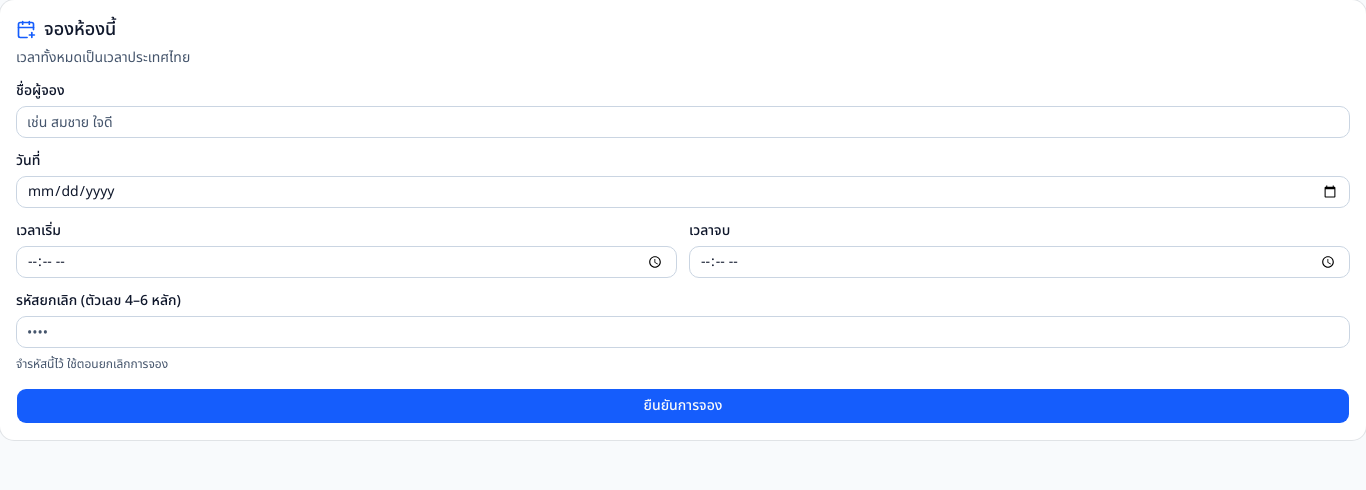
Test case: BookingForm › shows API validation errors under the matching input
The image size is (1366, 490).
In the field labelled "ชื่อผู้จอง": (683, 122) top-left (16, 106), bottom-right (1350, 138), type "สมชาย"
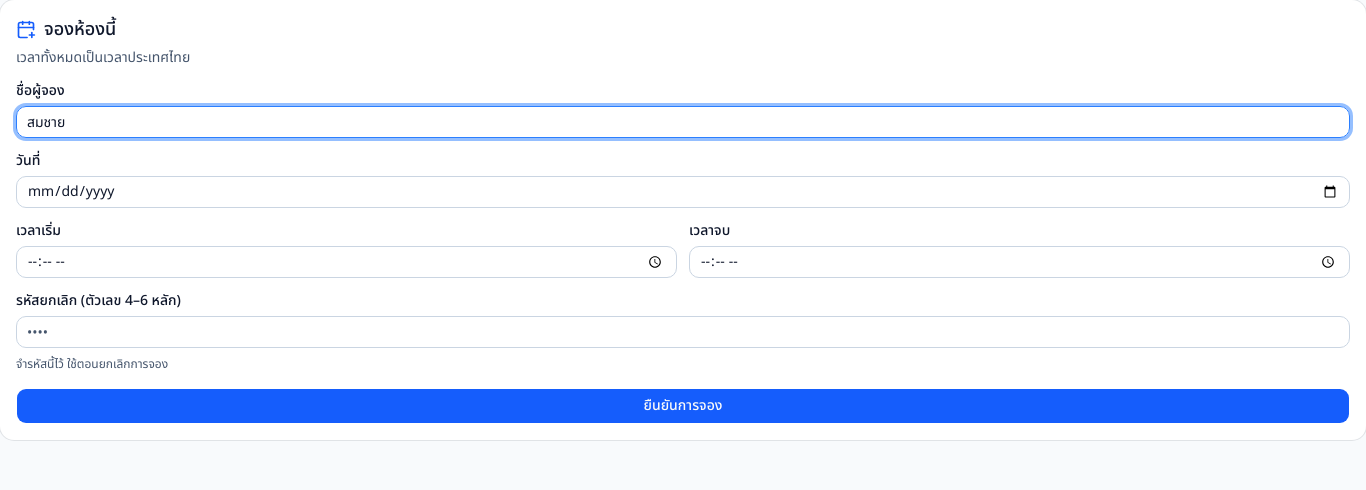
In the date field labelled "วันที่": (683, 192) top-left (16, 176), bottom-right (1350, 208), type "2030-01-15"
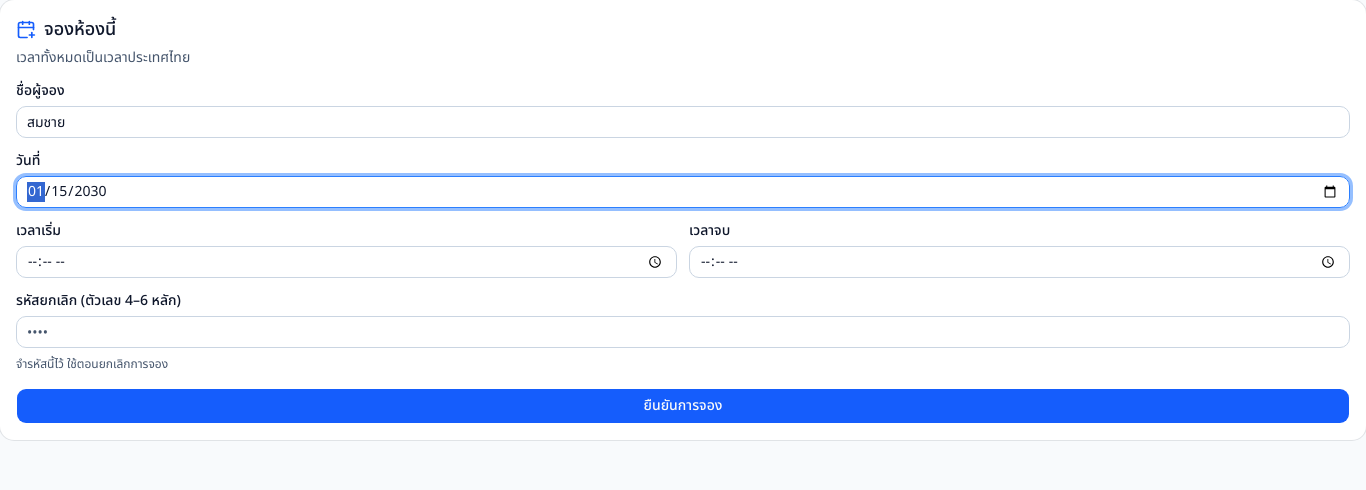
In the time field labelled "เวลาเริ่ม": (346, 262) top-left (16, 246), bottom-right (677, 278), type "10:00"
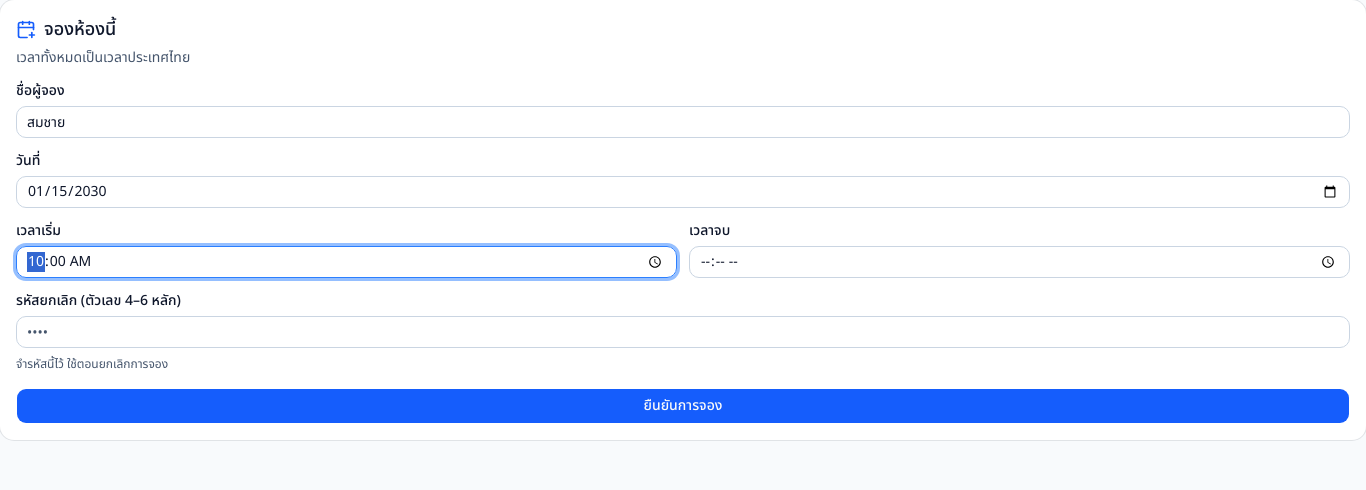
In the time field labelled "เวลาจบ": (1020, 262) top-left (689, 246), bottom-right (1350, 278), type "09:00"
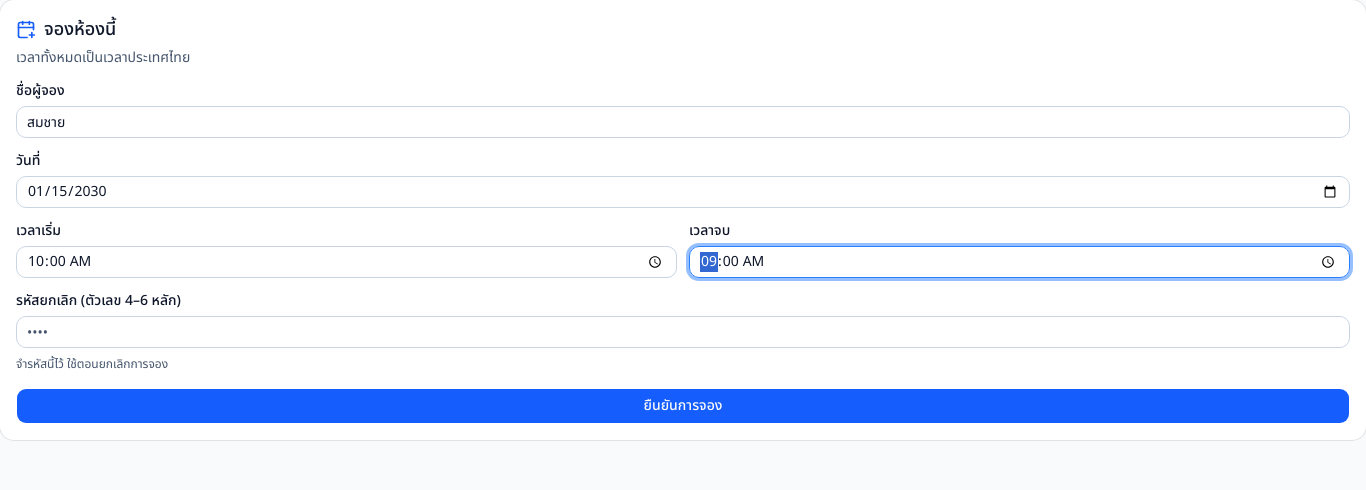
In the password field labelled "รหัสยกเลิก (ตัวเลข 4–6 หลัก)": (683, 332) top-left (16, 316), bottom-right (1350, 348), type "12"
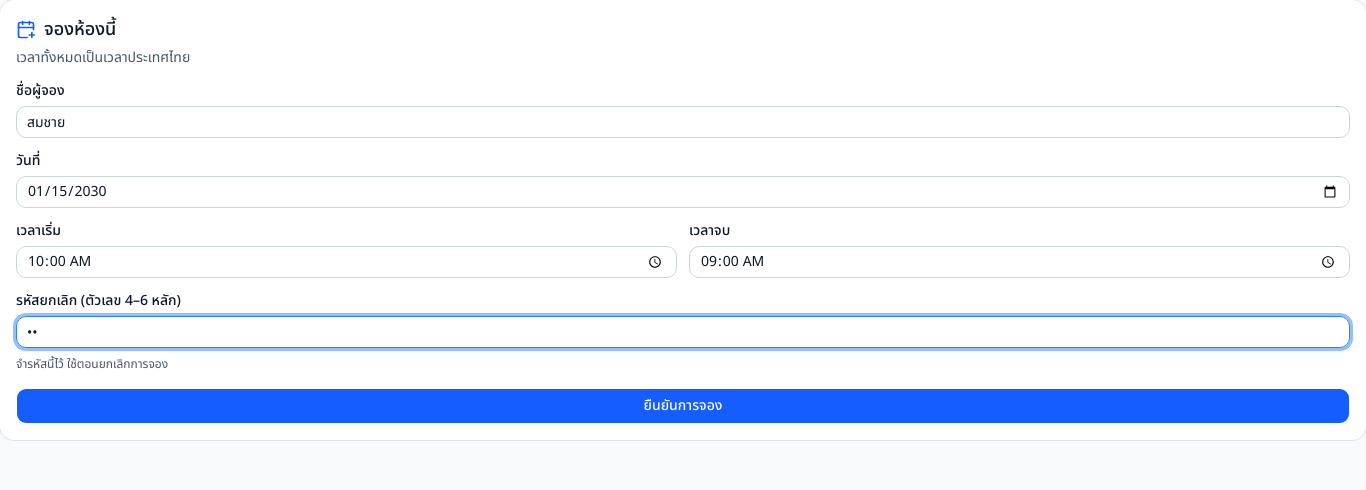
Click the button "ยืนยันการจอง": (683, 406) top-left (16, 388), bottom-right (1350, 424)
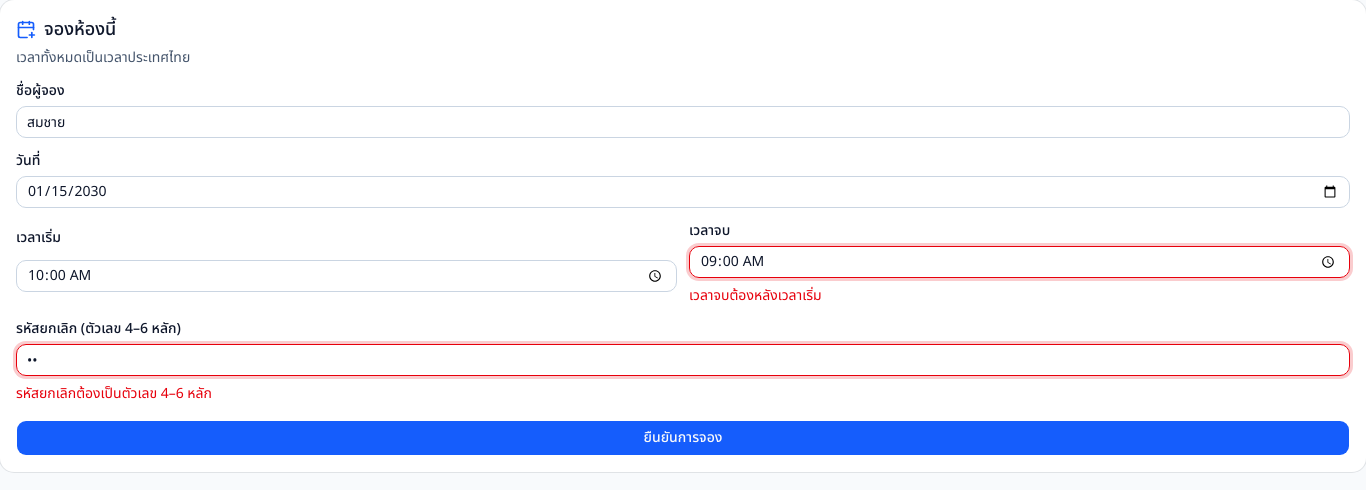
Expected: the text "รหัสยกเลิกต้องเป็นตัวเลข 4–6 หลัก" is shown, top-left (16, 383), bottom-right (212, 404)
